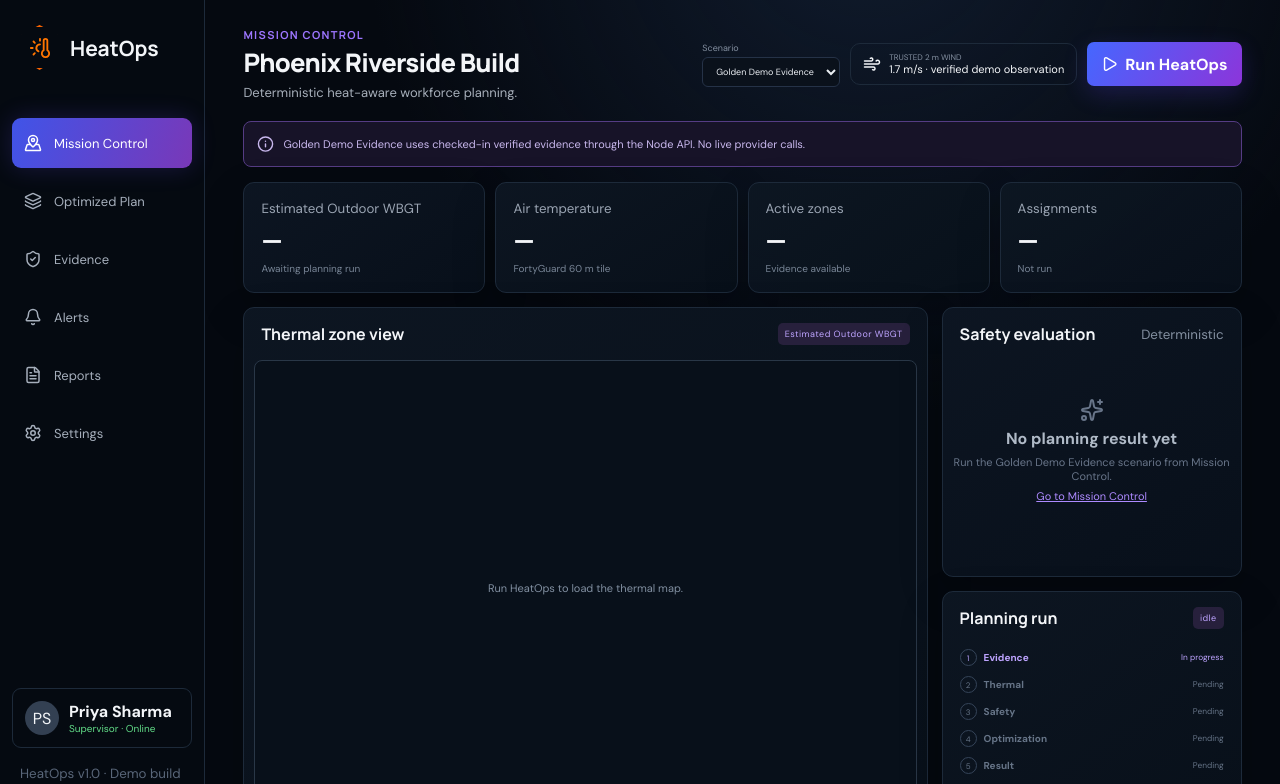
Test: HeatOps application navigation › shows fail-closed API errors on Mission Control
Select "Live Providers" in the dropdown labelled "Scenario" at (771,72), box 702,57 -> 840,87
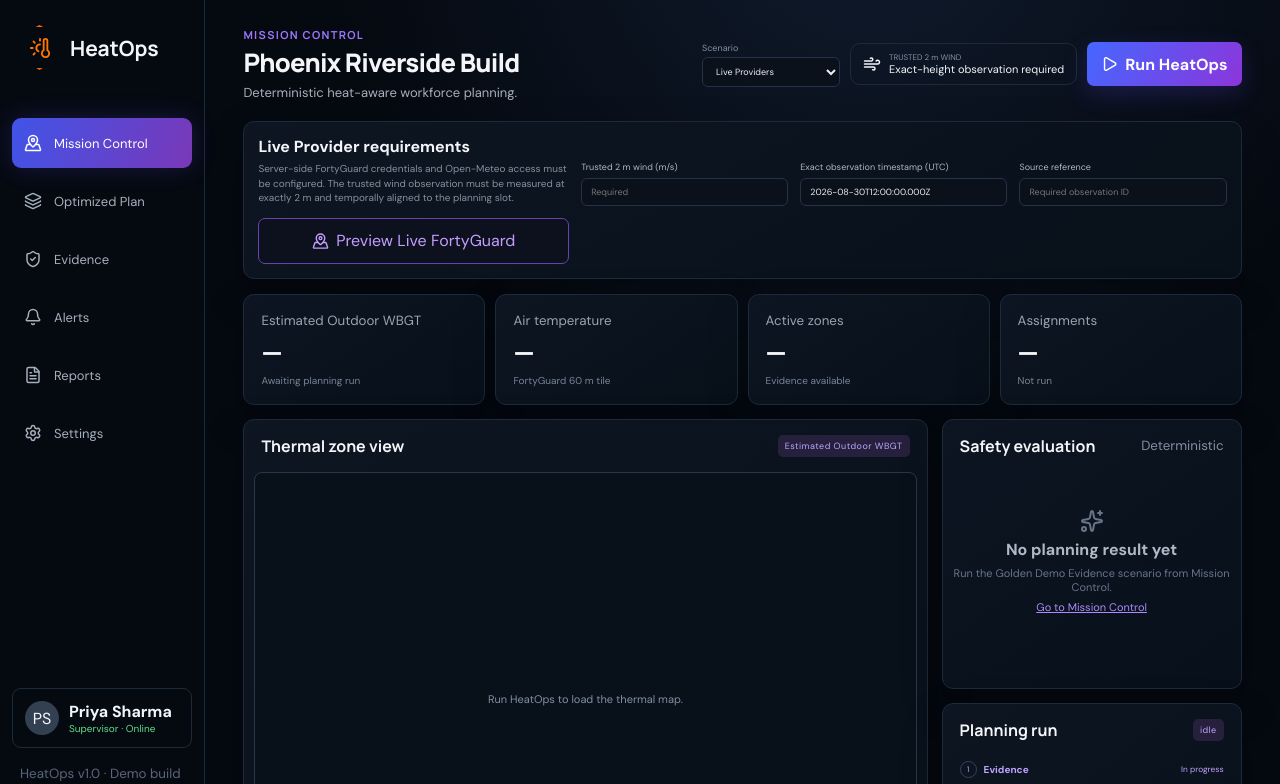
Type "1.7" into the field named "Trusted 2 m wind speed" at (685,192), box 581,178 -> 788,206
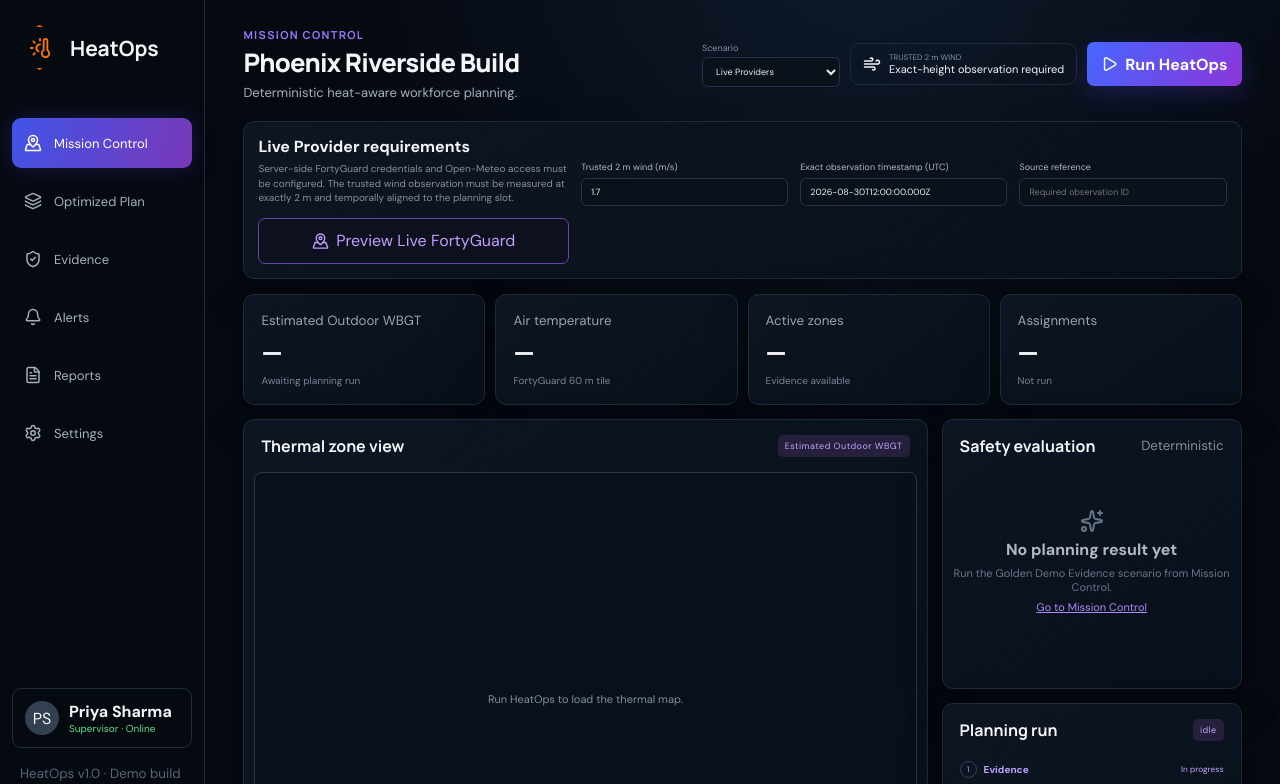
Type "onsite-anemometer-observation-42" into the field named "Trusted wind source reference" at (1123,192), box 1019,178 -> 1227,206
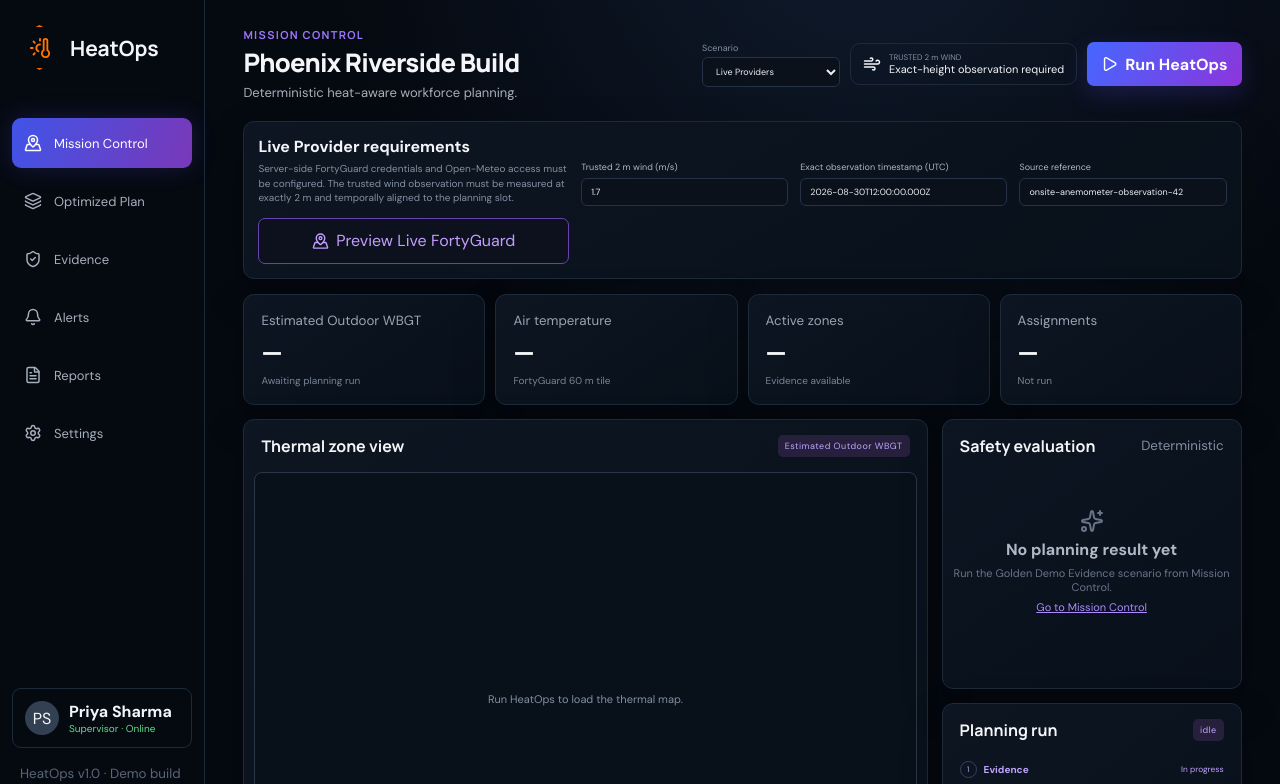
Click the button "Run HeatOps" at (1164,64), box 1087,42 -> 1242,86
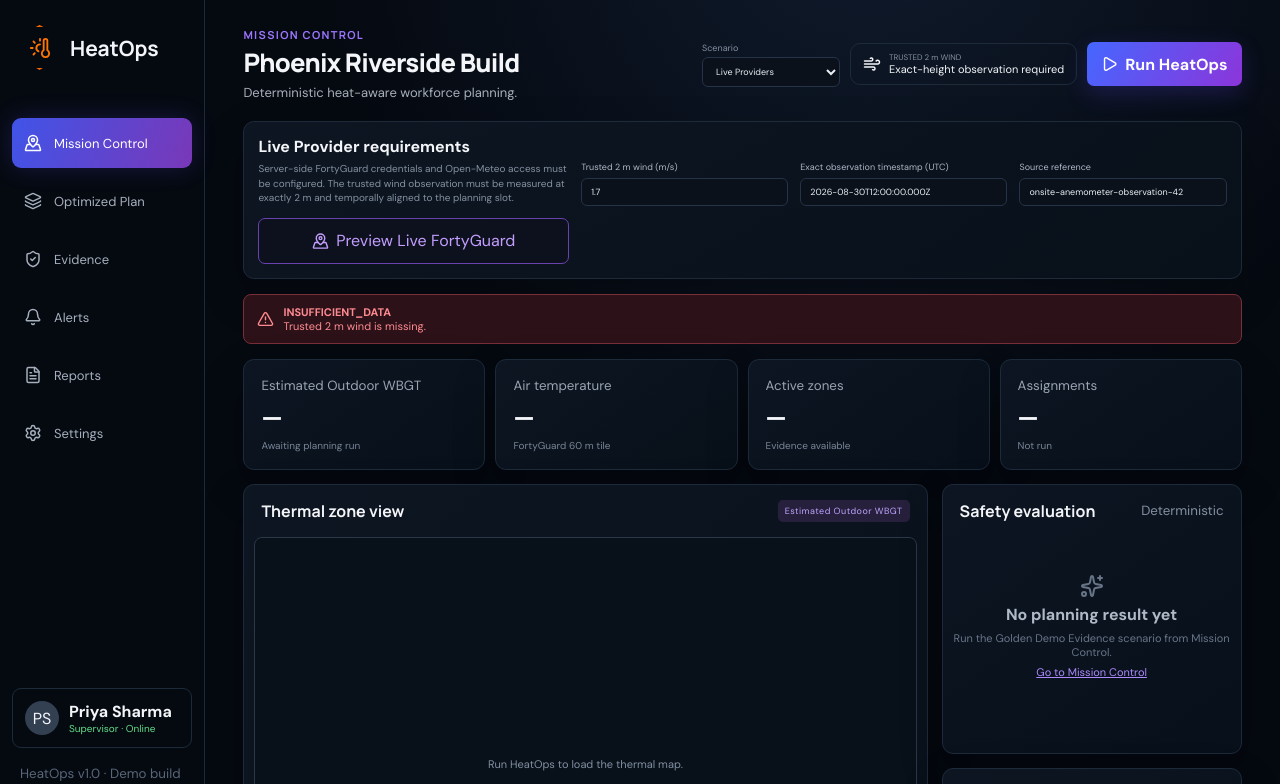
Check: the message shows "Trusted 2 m wind is missing.", box 283,319 -> 426,333
